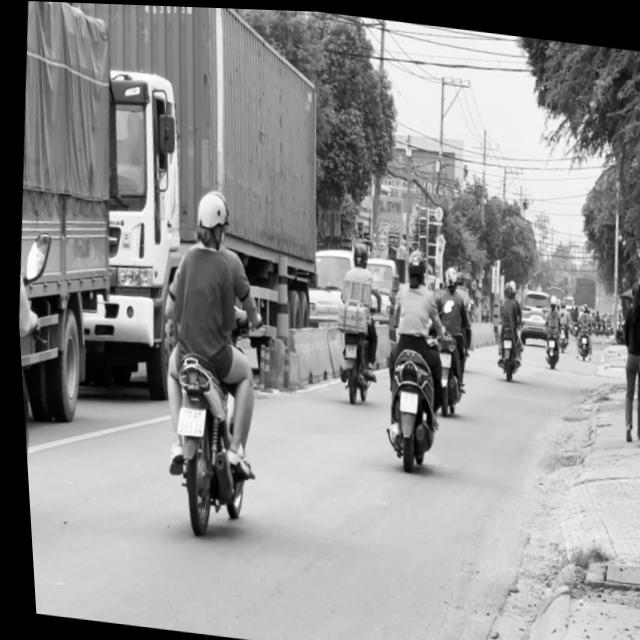helmet: (186, 183, 227, 248), (400, 243, 423, 281)
licenseplate: (132, 177, 277, 538), (365, 239, 452, 469)
nohelmet: (170, 403, 201, 434), (392, 385, 412, 409)
